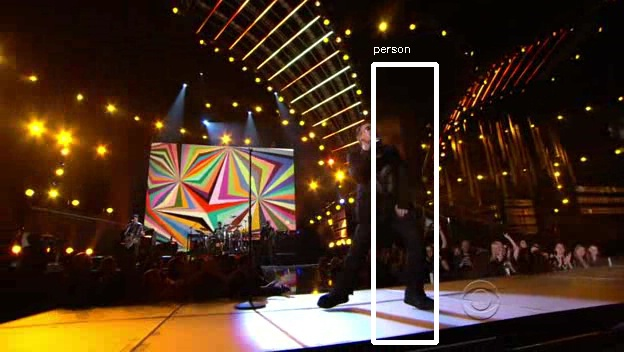person: (346, 122, 413, 236), (343, 122, 410, 236), (349, 122, 416, 236), (346, 119, 413, 233), (346, 125, 413, 239)
target_negative: (52, 54, 467, 266), (89, 128, 524, 203), (14, 189, 584, 219), (250, 50, 401, 59), (533, 287, 561, 326), (610, 29, 614, 287)
